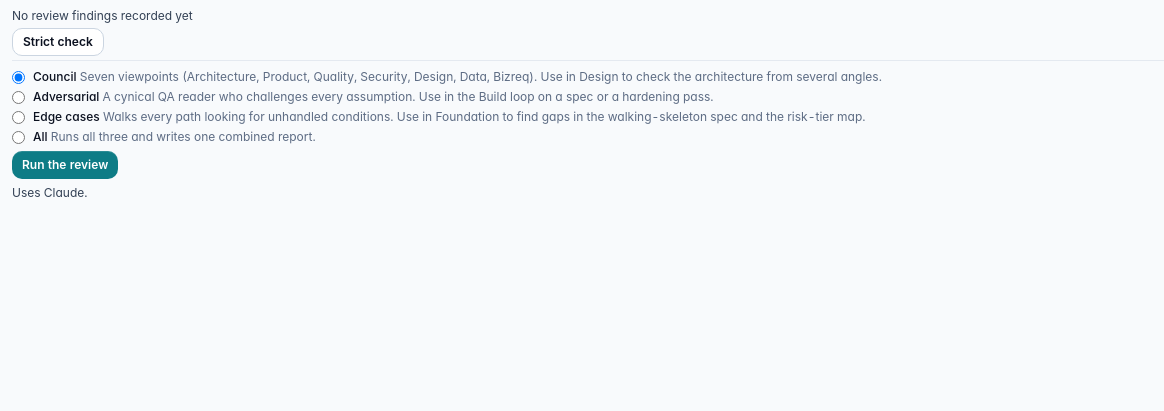
ReviewStandingPanel: the run › Keep says the report was saved and its findings recorded, then reads the standing again
This screenshot has width=1164, height=411.
Expected: the text "No review findings recorded yet" is shown, [12,8,193,23]
What coordinates should you click on to do the following:
click the button "Run the review"
I would click on:
 (65, 165)
Its box is [12,151,118,179].
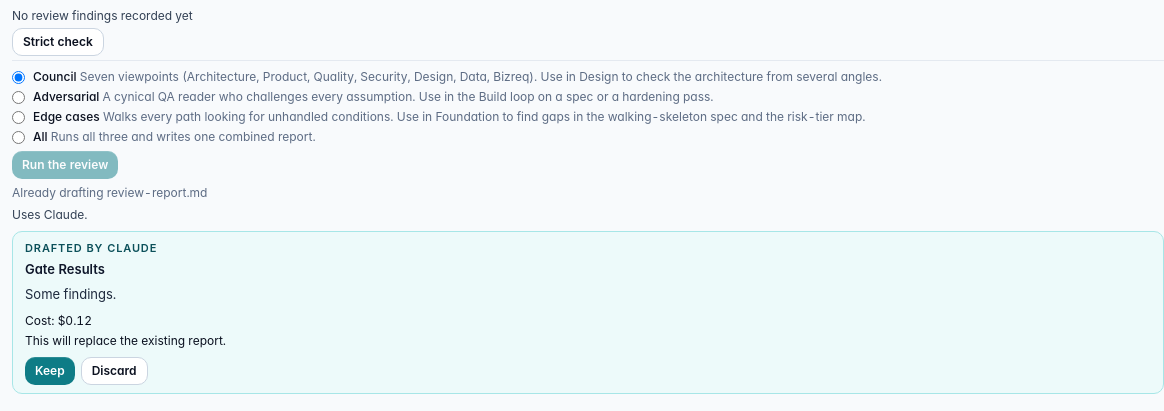
Now the element with test id "candidate-text" is shown, box [25,261,116,302]
Now the text "This will replace the existing report." is shown, box [25,333,226,348]
What coordinates should you click on to do the following:
click the button with test id "draft-keep"
I would click on:
 (50, 371)
Its box is [25,357,75,385].
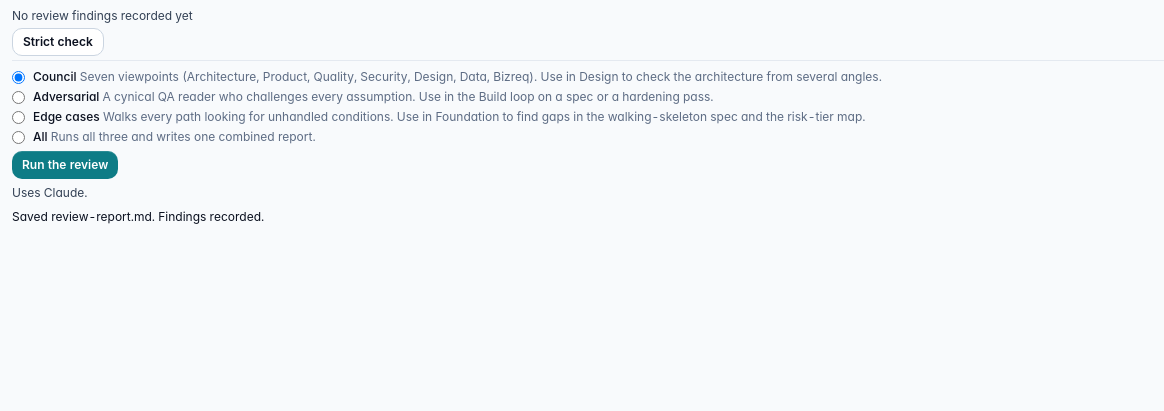
Now the text with test id "draft-saved" reads "Saved review-report.md. Findings recorded.", box [12,209,264,224]
